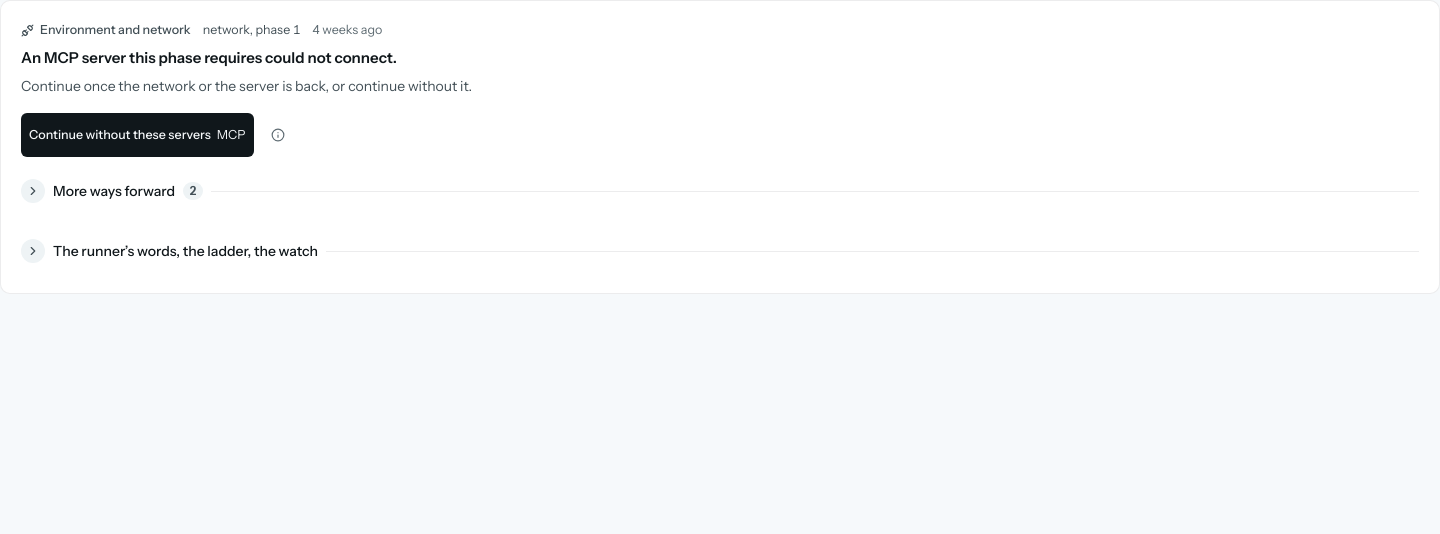
Test case: the card names the family, one sentence, and the ONE recommended recovery › environment: the recommended verb is drawn first and alone — every other way forward is one press behind it
Check: the button "Retry from scratch" is not shown
Check: the button "Retry with edits…" is not shown
Click the text "More ways forward": (114, 191) [53, 181, 175, 202]
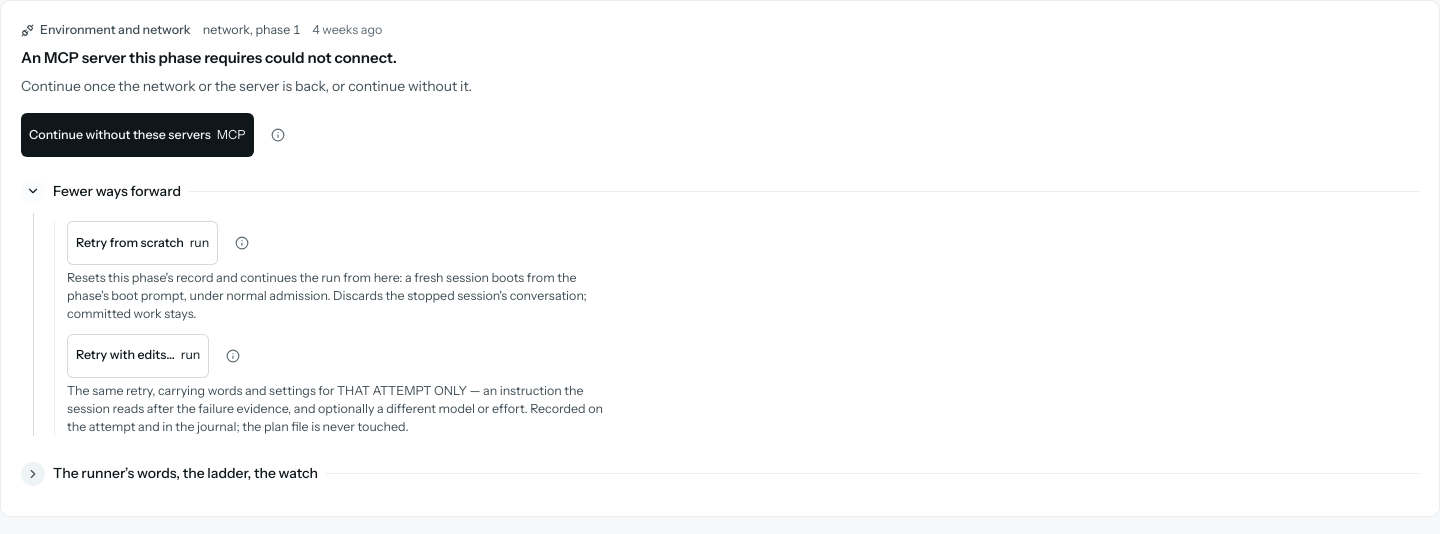
Check: the button "Retry from scratch run" is shown, box [67, 221, 218, 265]
Check: the button "Retry with edits… run" is shown, box [67, 334, 209, 378]
